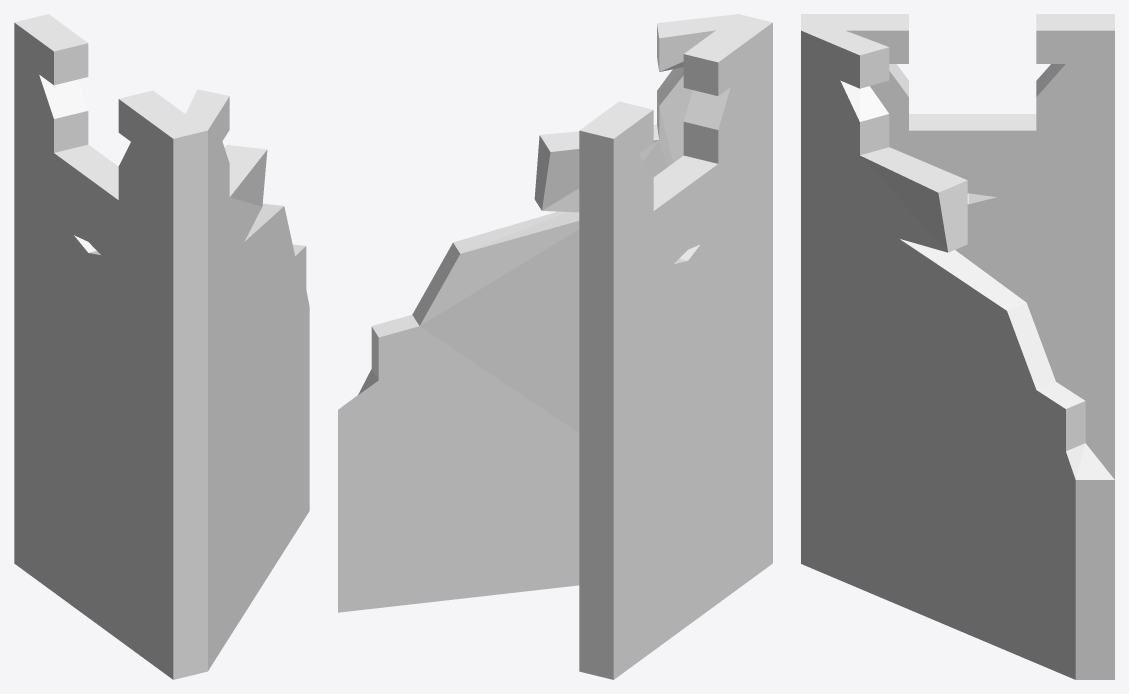
3 renders of one model, left to right at view 1: azimuth 30°, elevation 25°; view 2: azimuth 150°, elevation 25°; view 3: azimuth 270°, elevation 25°, orthographic.
Bounding box in the file's own units: 128 × 240 × 128.
1 material, 1 textured.
